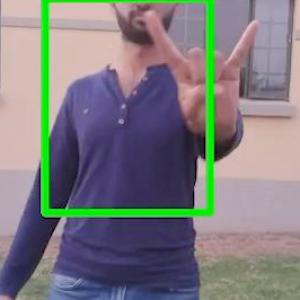takeoff-hand: (143, 0, 273, 157)
